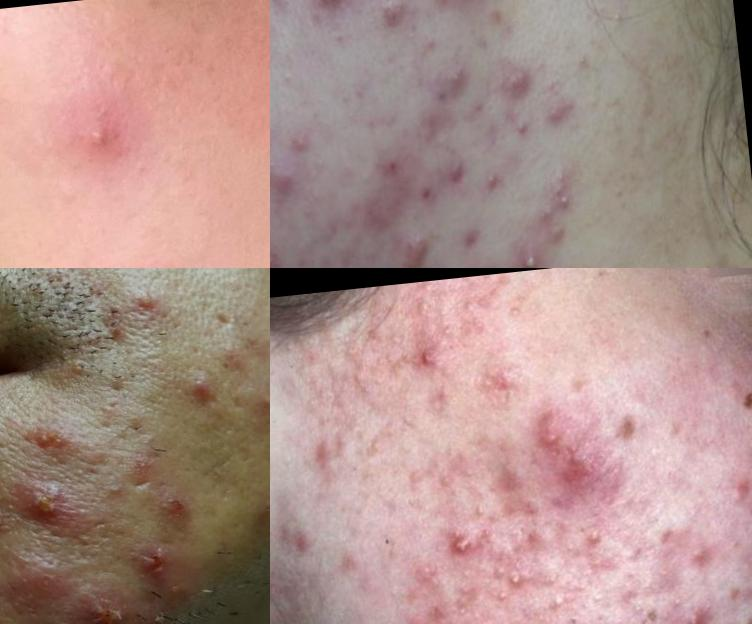cystic: (22, 483, 69, 531), (20, 556, 63, 606), (78, 594, 130, 624)
papular: (54, 103, 148, 173), (362, 1, 422, 50), (532, 82, 583, 138), (174, 365, 228, 413), (424, 62, 474, 113), (407, 341, 455, 394), (271, 149, 304, 220), (557, 449, 606, 496), (154, 483, 202, 529), (674, 539, 717, 588), (715, 471, 752, 525), (493, 56, 537, 101), (382, 236, 437, 269), (370, 143, 411, 184), (530, 413, 570, 454), (411, 594, 460, 624), (540, 214, 573, 249), (440, 154, 473, 188), (678, 601, 710, 624), (271, 236, 285, 269), (622, 617, 660, 624)
purulent: (441, 522, 486, 570), (127, 281, 165, 327), (241, 383, 271, 425), (513, 247, 547, 269)
sebo-crystan-conglo: (25, 419, 76, 462)
whitehead: (542, 177, 582, 222), (569, 518, 614, 553), (481, 164, 516, 201), (505, 114, 533, 153), (470, 363, 498, 400), (431, 326, 463, 356), (466, 495, 493, 529), (547, 593, 571, 621), (510, 569, 534, 597), (407, 299, 439, 319)
